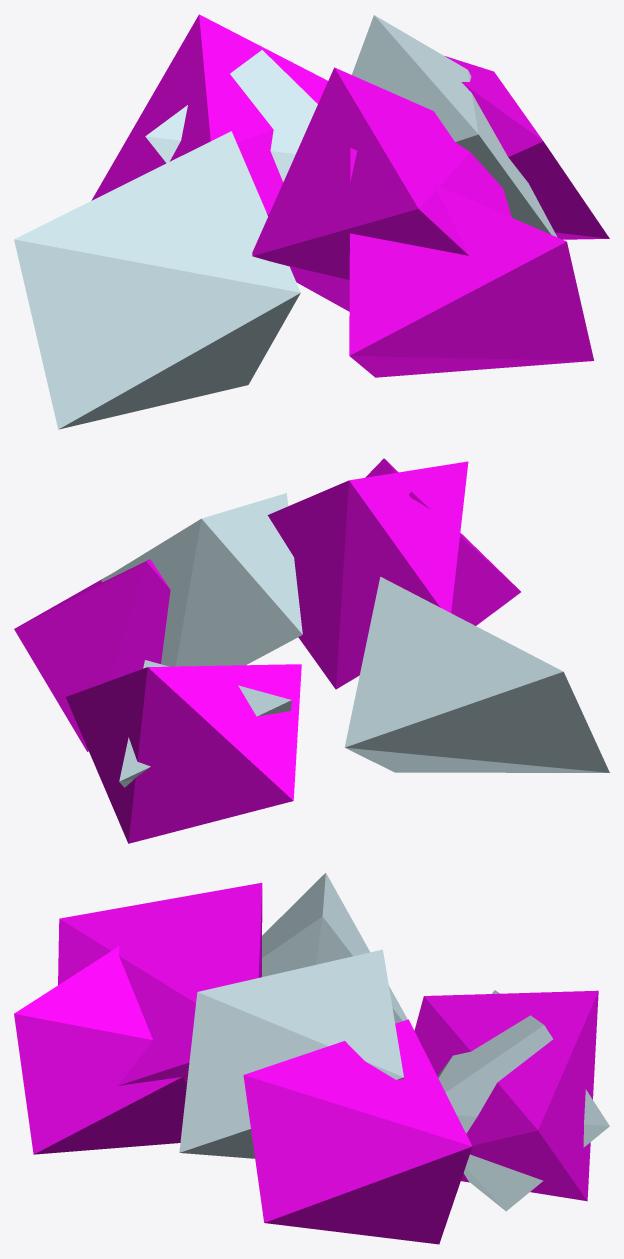
The model's file is objet_verre.glb.
The picture shows the model from 3 angles, top to bottom: view 1: azimuth 30°, elevation 25°; view 2: azimuth 150°, elevation 25°; view 3: azimuth 270°, elevation 25°; orthographic projection. The views are drawn at different scales.
Parts seen in each view (by area): view 1: verre_teinte.002, verre_verre_clair.002; view 2: verre_teinte.002, verre_verre_clair.002; view 3: verre_teinte.002, verre_verre_clair.002.
Part boxes in pixels (x1,y1,x2,y2): verre_teinte.002: [91, 14, 609, 377]; verre_verre_clair.002: [14, 15, 556, 429]; verre_teinte.002: [14, 458, 520, 843]; verre_verre_clair.002: [101, 493, 609, 787]; verre_teinte.002: [14, 883, 598, 1244]; verre_verre_clair.002: [179, 873, 609, 1211].
Size of the model in its own units: 0.168 by 0.0885 by 0.1684.
